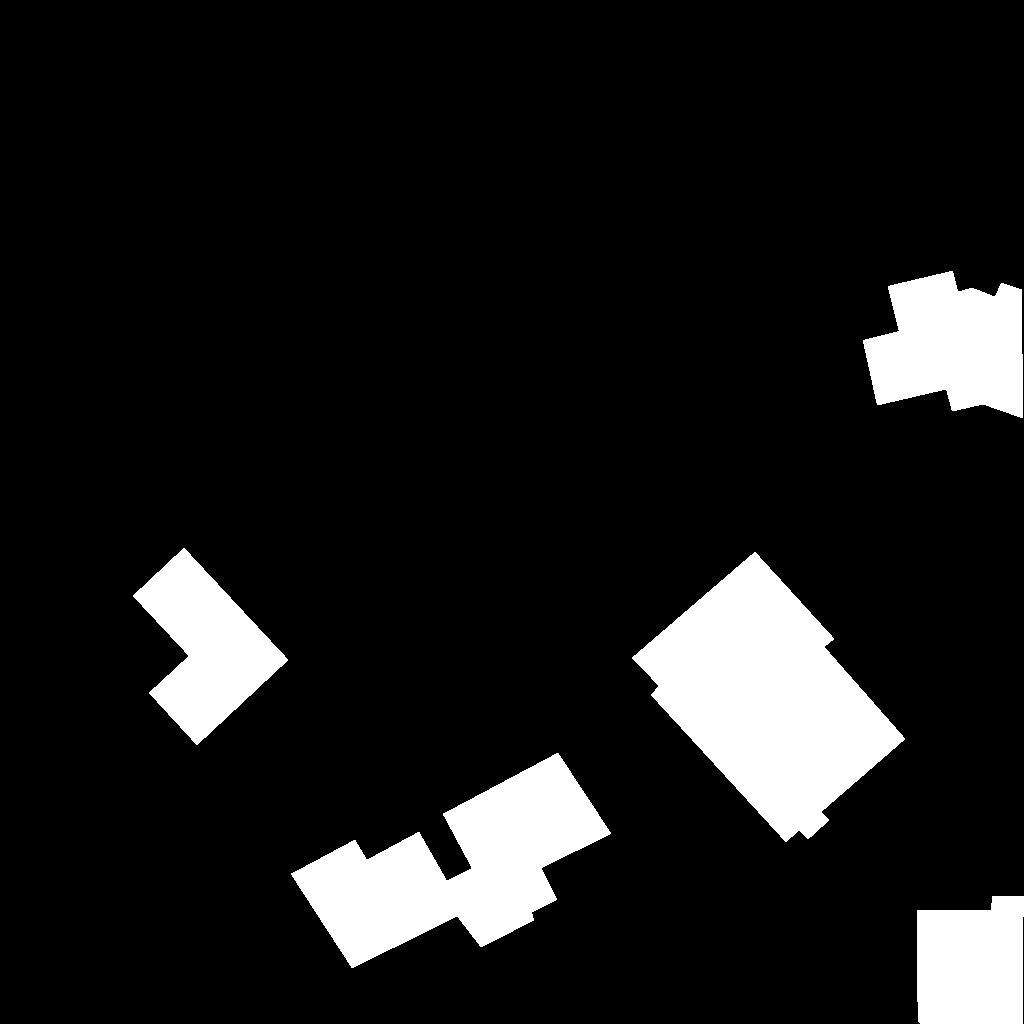building: (632, 552, 906, 843), (291, 753, 612, 969), (133, 548, 289, 746), (863, 271, 1024, 419), (917, 896, 1024, 1024)
